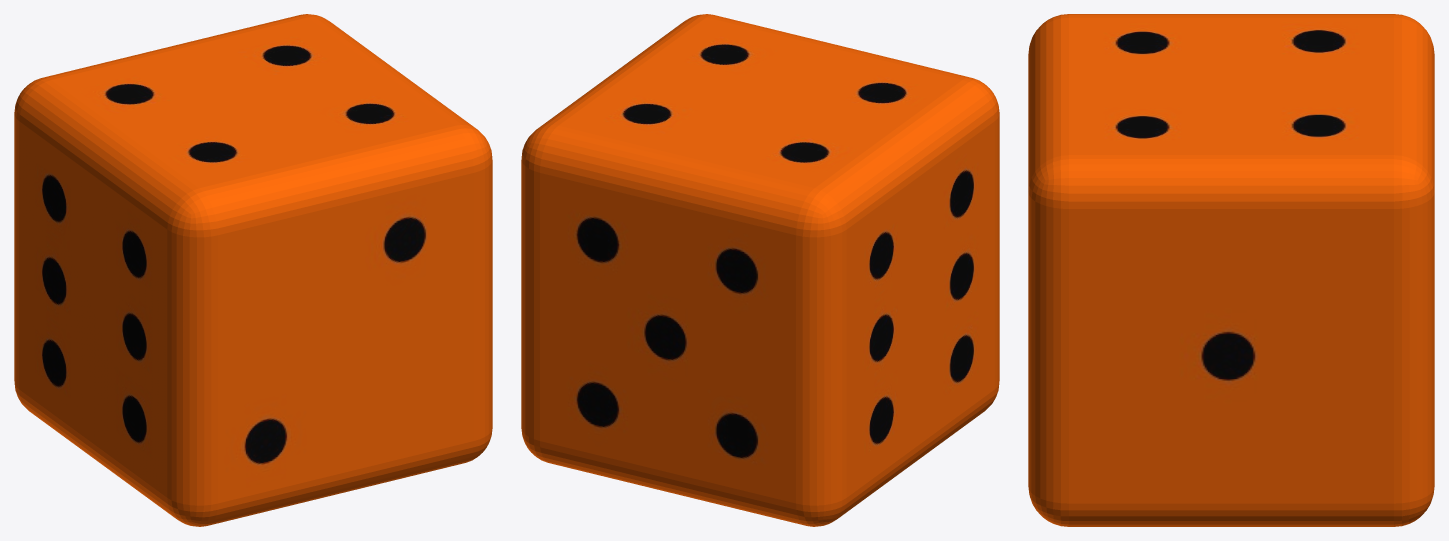
The model's file is Dice.glb.
The picture shows the model from 3 angles, left to right: view 1: azimuth 30°, elevation 25°; view 2: azimuth 150°, elevation 25°; view 3: azimuth 270°, elevation 25°; orthographic projection. The views are drawn at different scales.
Visible parts, largest first — view 1: Cube; view 2: Cube; view 3: Cube.
Part boxes in pixels (x1,y1,x2,y2): Cube: [14, 14, 492, 526]; Cube: [521, 14, 999, 526]; Cube: [1028, 14, 1434, 526].
Size of the model in its own units: 2 by 2 by 2.
1 material, 1 textured.
